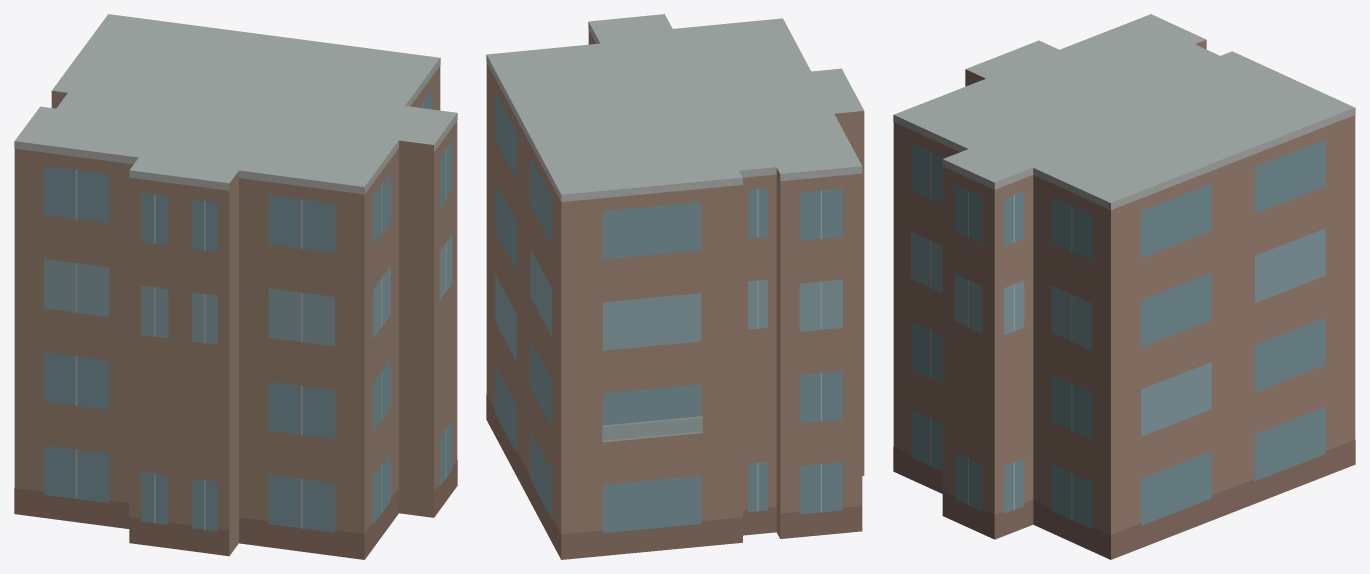
The model's file is residential-5811d1c4-4009-4932-9f58-b71bf625a124.glb.
3 views of the same model, side by side, from view 1: azimuth 30°, elevation 25°; view 2: azimuth 150°, elevation 25°; view 3: azimuth 270°, elevation 25° (orthographic). The views are drawn at different scales.
Visible parts, largest first — view 1: residential-5811d1c4-4009-4932-9f58-b71bf625a124.tmp; view 2: residential-5811d1c4-4009-4932-9f58-b71bf625a124.tmp; view 3: residential-5811d1c4-4009-4932-9f58-b71bf625a124.tmp.
Part boxes in pixels (x1,y1,x2,y2): residential-5811d1c4-4009-4932-9f58-b71bf625a124.tmp: (14,14,457,559); residential-5811d1c4-4009-4932-9f58-b71bf625a124.tmp: (486,14,864,559); residential-5811d1c4-4009-4932-9f58-b71bf625a124.tmp: (893,14,1355,559).
Size of the model in its own units: 13.87 by 12.2 by 14.32.
